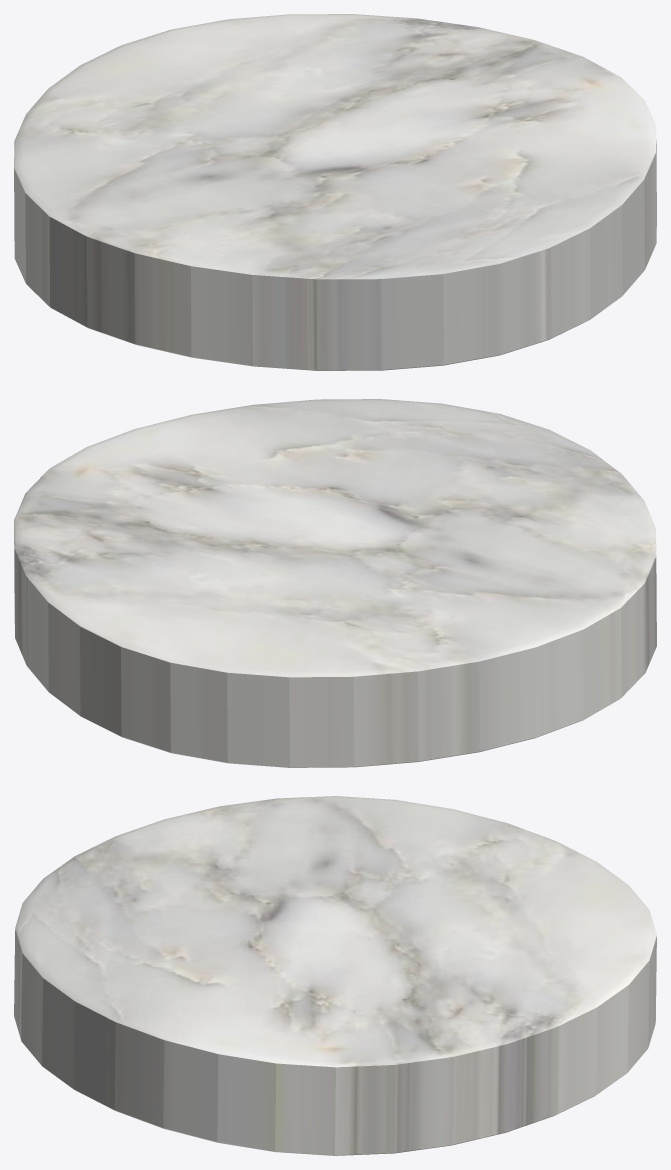
File: 圓石台.FBX
The picture shows the model from 3 angles, top to bottom: view 1: azimuth 30°, elevation 25°; view 2: azimuth 150°, elevation 25°; view 3: azimuth 270°, elevation 25°; orthographic projection. The views are drawn at different scales.
Parts seen in each view (by area): view 1: Cone001; view 2: Cone001; view 3: Cone001.
Part boxes in pixels (bbox=[...]): Cone001: bbox=[14, 14, 656, 370]; Cone001: bbox=[14, 399, 656, 767]; Cone001: bbox=[14, 796, 656, 1155].
Size of the model in its own units: 66.09 by 16 by 66.21.
